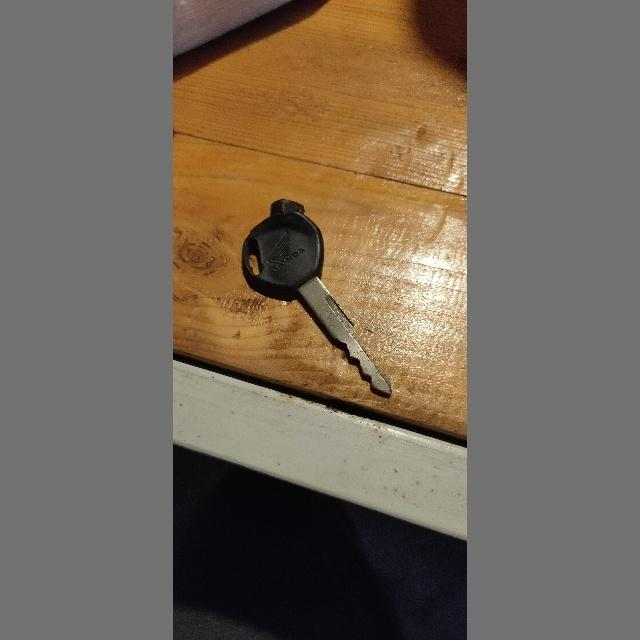Keys: (234, 190, 398, 402)
